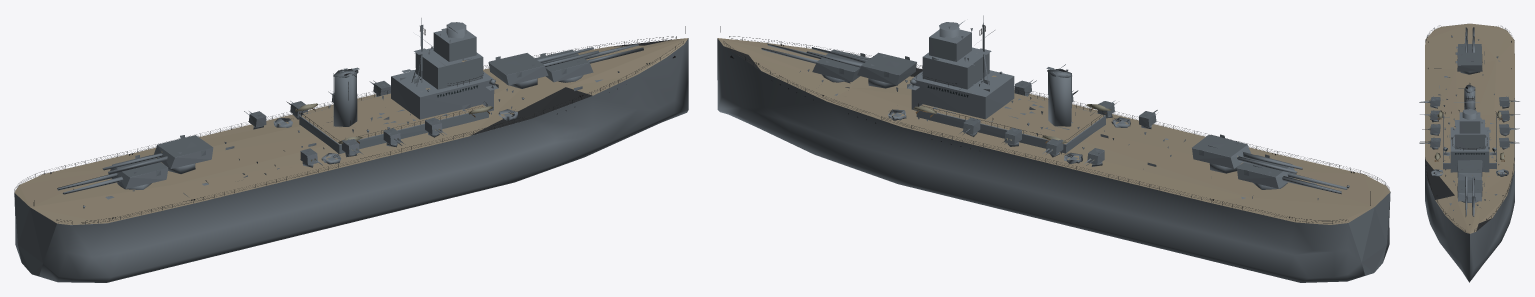
The model's file is colorado_lod.glb.
3 views of the same model, side by side, from view 1: azimuth 30°, elevation 25°; view 2: azimuth 150°, elevation 25°; view 3: azimuth 270°, elevation 25° (orthographic). The views are drawn at different scales.
Parts seen in each view (by area): view 1: colorado_lod; view 2: colorado_lod; view 3: colorado_lod.
Part boxes in pixels (x1=…): colorado_lod: x1=14, y1=18, x2=688, y2=282; colorado_lod: x1=717, y1=15, x2=1390, y2=282; colorado_lod: x1=1419, y1=23, x2=1519, y2=282.
Size of the model in its own units: 190 by 45.47 by 37.8.
